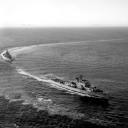Fragata: (47, 74, 112, 102)
